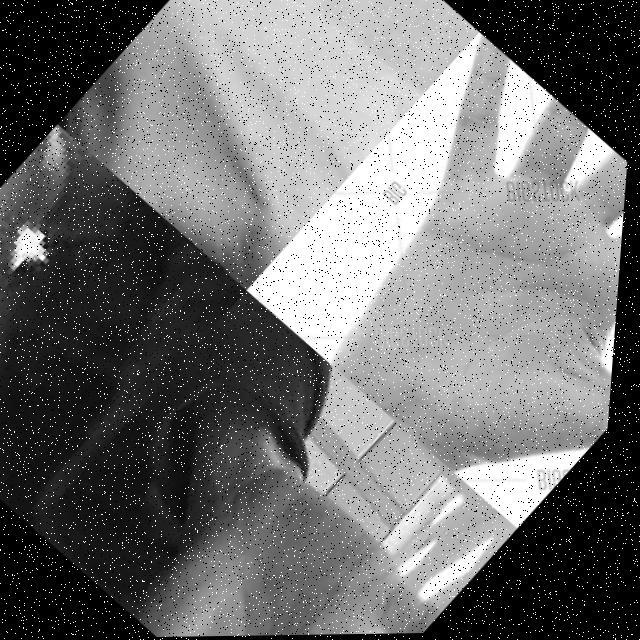no-gloves: (237, 31, 638, 532), (49, 0, 440, 292), (134, 445, 468, 638)
